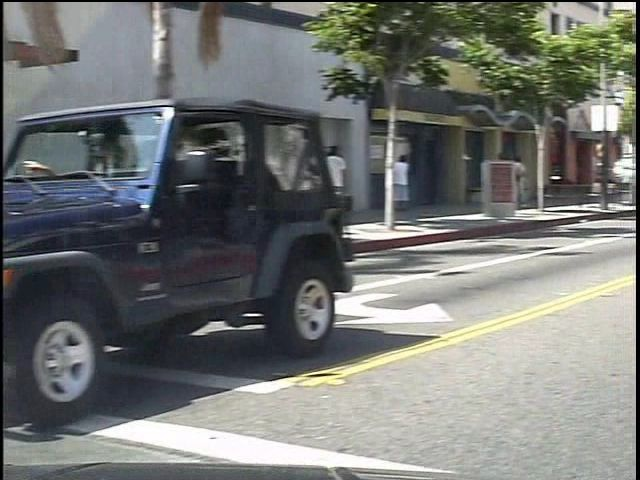person: (406, 144, 430, 226), (345, 140, 365, 195)
